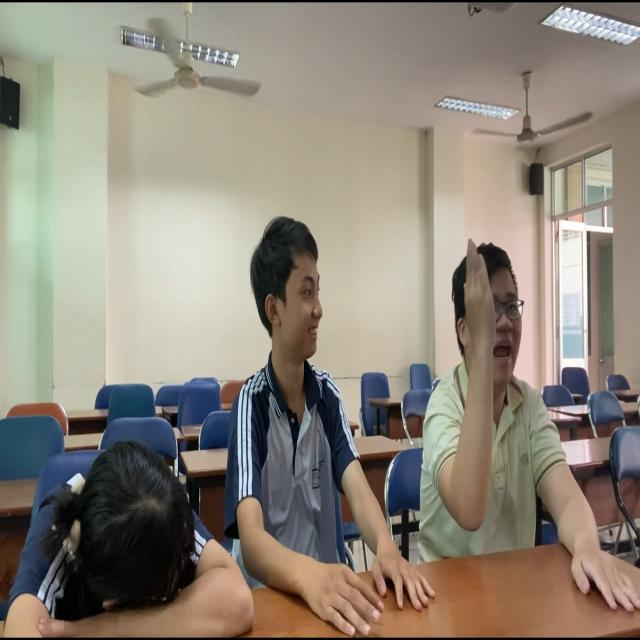raise_hand: (430, 234, 577, 585)
sleep: (4, 447, 245, 640)
